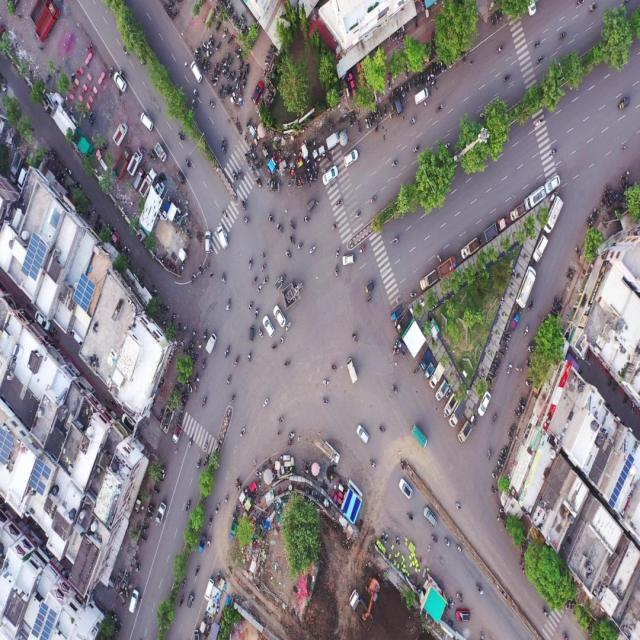3W: (617, 96, 632, 112), (174, 168, 187, 186), (307, 197, 317, 214), (364, 280, 375, 295), (187, 594, 196, 610), (249, 323, 255, 343)
Cars: (532, 232, 549, 262), (250, 80, 266, 107), (216, 225, 231, 250), (423, 505, 439, 528), (128, 587, 142, 613), (545, 172, 561, 194), (138, 110, 154, 132), (477, 390, 491, 415), (346, 356, 358, 385), (354, 423, 370, 444), (190, 59, 203, 84), (322, 165, 338, 185), (399, 478, 414, 498), (113, 70, 126, 93), (393, 88, 404, 115), (344, 148, 359, 167), (414, 86, 429, 105), (262, 313, 274, 336), (203, 576, 214, 600), (272, 306, 286, 324), (456, 607, 471, 623), (342, 252, 355, 268), (204, 228, 211, 254)
LCV: (543, 195, 565, 236), (516, 265, 536, 306), (524, 183, 547, 214), (138, 165, 157, 201), (436, 255, 456, 282), (409, 422, 428, 448), (420, 268, 439, 293), (442, 392, 459, 419), (449, 401, 465, 429), (434, 378, 450, 404), (460, 240, 478, 262), (509, 202, 527, 224), (112, 119, 126, 145), (458, 420, 472, 446), (429, 362, 443, 388), (128, 152, 142, 175), (396, 312, 409, 336), (155, 502, 166, 527), (154, 142, 167, 162), (207, 333, 219, 354), (326, 132, 340, 150), (420, 350, 432, 370), (389, 304, 402, 322), (198, 531, 208, 553), (395, 340, 407, 358), (424, 362, 435, 381), (510, 314, 520, 333), (173, 423, 182, 444), (235, 506, 239, 516)
M2W: (222, 346, 232, 359), (589, 0, 598, 14), (434, 100, 444, 112), (288, 220, 298, 232), (503, 70, 510, 86), (201, 396, 208, 412), (412, 143, 421, 155), (266, 211, 275, 223), (321, 395, 330, 407), (233, 355, 240, 370), (534, 116, 542, 129), (246, 300, 254, 313), (408, 116, 418, 126), (430, 534, 440, 544), (443, 537, 452, 548), (275, 223, 284, 234), (506, 362, 513, 376), (253, 306, 260, 320), (476, 582, 484, 594), (208, 97, 216, 109), (192, 86, 200, 98), (226, 297, 232, 313), (496, 43, 504, 55), (188, 434, 194, 450), (551, 294, 557, 310), (256, 176, 263, 189), (389, 158, 398, 168), (321, 378, 330, 388), (391, 385, 400, 395), (378, 425, 388, 434), (532, 40, 541, 50), (228, 396, 237, 406), (490, 471, 499, 481), (550, 308, 559, 318), (151, 487, 161, 496), (250, 275, 258, 286), (558, 30, 566, 41), (336, 198, 343, 210), (359, 243, 366, 255), (486, 448, 492, 462), (177, 131, 184, 143), (219, 144, 226, 156), (220, 272, 227, 284), (351, 332, 358, 344), (225, 374, 232, 386), (185, 499, 192, 511), (196, 458, 202, 472), (227, 32, 234, 44), (108, 66, 115, 78), (177, 410, 183, 424), (259, 263, 268, 272), (261, 275, 270, 284), (283, 358, 292, 367), (523, 379, 532, 388), (221, 209, 229, 219), (256, 285, 264, 295), (247, 350, 252, 366), (408, 290, 418, 298), (371, 193, 377, 206), (335, 245, 341, 258), (456, 542, 462, 555), (202, 329, 208, 342), (208, 514, 214, 527), (203, 454, 209, 467), (172, 6, 178, 19), (574, 245, 580, 258), (192, 372, 198, 385), (527, 301, 534, 312), (191, 97, 198, 108), (536, 54, 543, 65), (331, 220, 337, 232), (393, 235, 399, 247), (524, 324, 530, 336), (494, 357, 502, 366), (454, 501, 462, 510), (231, 171, 237, 183), (238, 168, 244, 180), (241, 198, 247, 210), (243, 153, 251, 162), (204, 262, 212, 271), (191, 328, 199, 337), (279, 334, 285, 346), (270, 342, 279, 350), (277, 417, 285, 426), (288, 430, 296, 439), (223, 494, 229, 506), (214, 502, 220, 514), (206, 537, 212, 549), (182, 577, 188, 589), (178, 595, 184, 607), (121, 45, 127, 57), (238, 60, 244, 72), (216, 20, 222, 32), (70, 72, 76, 84), (508, 432, 514, 444), (145, 512, 154, 520), (309, 244, 316, 254), (501, 343, 508, 353), (456, 591, 463, 601), (215, 41, 222, 51), (190, 273, 197, 283), (330, 362, 337, 372), (314, 167, 319, 181), (566, 268, 576, 275), (551, 146, 557, 157), (222, 27, 228, 38), (263, 398, 269, 409), (240, 427, 246, 438), (226, 70, 232, 81), (514, 410, 520, 421), (491, 413, 496, 426), (266, 175, 271, 188), (357, 123, 362, 136), (386, 78, 391, 91), (494, 12, 499, 25), (478, 232, 483, 245), (230, 12, 237, 21), (139, 536, 148, 543), (407, 512, 413, 522), (184, 158, 190, 168), (208, 34, 214, 44), (298, 241, 304, 251), (208, 269, 214, 279), (286, 322, 292, 332), (370, 458, 376, 468), (220, 56, 226, 66), (219, 83, 224, 95), (382, 105, 387, 117), (347, 117, 353, 127), (431, 78, 437, 88), (516, 305, 522, 315), (520, 401, 526, 411), (303, 216, 311, 223), (304, 172, 308, 186), (335, 263, 339, 277), (260, 250, 267, 258), (248, 256, 252, 270), (504, 329, 512, 336), (508, 425, 515, 433), (194, 566, 199, 577), (213, 61, 218, 72), (213, 77, 218, 88), (354, 211, 360, 220), (289, 235, 295, 244), (228, 96, 234, 105), (241, 13, 247, 22), (194, 46, 200, 55), (203, 41, 209, 50), (566, 272, 572, 281), (140, 526, 149, 532), (202, 359, 206, 372), (365, 117, 369, 130), (420, 73, 424, 86), (299, 174, 304, 184), (183, 322, 188, 332), (234, 478, 239, 488), (284, 250, 291, 257), (149, 502, 156, 509), (242, 217, 250, 223), (199, 263, 203, 275), (151, 148, 155, 160), (234, 78, 238, 90), (238, 85, 242, 97), (378, 106, 382, 118), (440, 61, 444, 73), (366, 295, 371, 304), (228, 57, 232, 68), (277, 181, 281, 192), (370, 114, 374, 125), (412, 77, 416, 88), (424, 74, 428, 85), (620, 146, 626, 153), (164, 306, 170, 313), (140, 145, 146, 152), (408, 79, 411, 93), (497, 461, 503, 468), (204, 440, 208, 450), (91, 114, 95, 124), (147, 152, 152, 160), (238, 48, 242, 58), (416, 76, 420, 86), (404, 84, 408, 94), (496, 466, 501, 474), (504, 444, 509, 452), (242, 77, 245, 90), (226, 51, 230, 60), (433, 65, 436, 77), (89, 111, 92, 122), (232, 70, 235, 81), (375, 121, 378, 132), (353, 113, 356, 124), (375, 105, 378, 116), (239, 71, 242, 81), (435, 64, 438, 74), (491, 16, 494, 26), (246, 62, 248, 75)
Truck: (348, 588, 374, 635), (35, 0, 59, 41), (115, 148, 132, 178)
